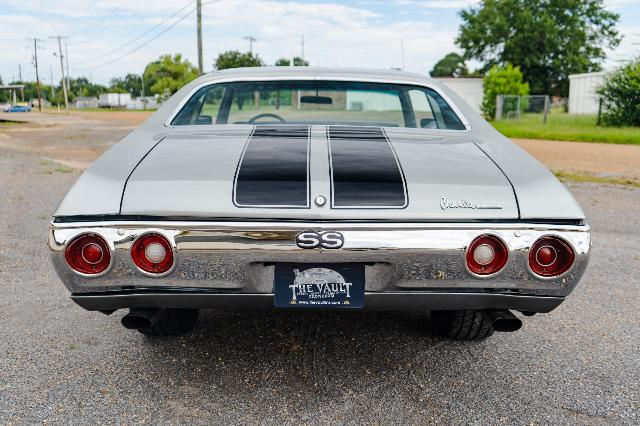chevelle-1972: (48, 68, 591, 340)
